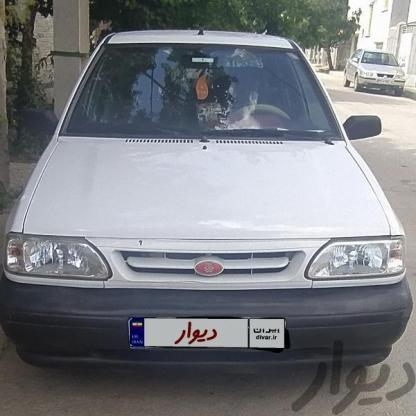Car: (0, 32, 412, 390), (348, 46, 412, 96)
